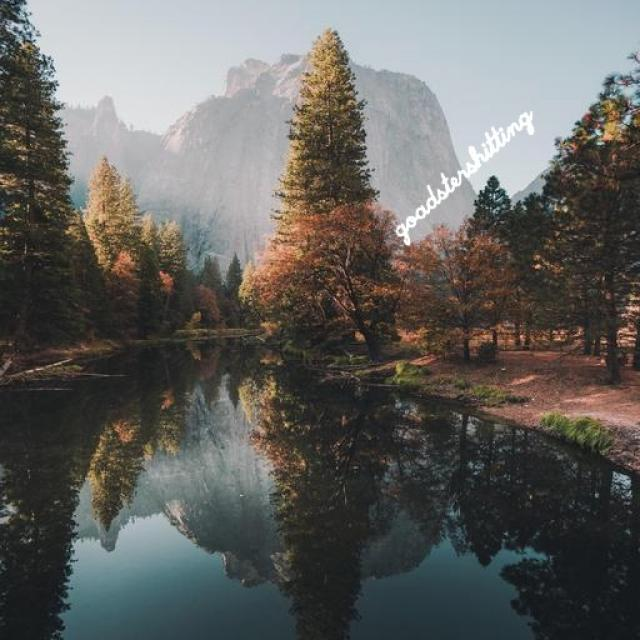watermark: (392, 92, 534, 242)
